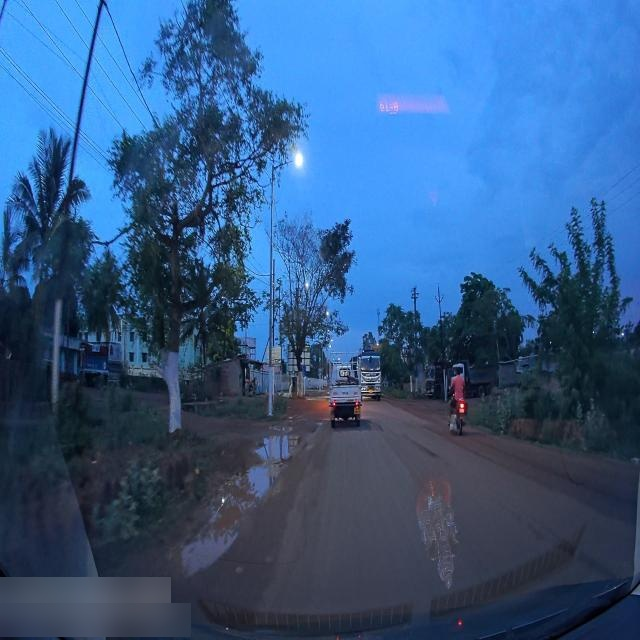pothole: (180, 459, 292, 577), (255, 431, 301, 461)
